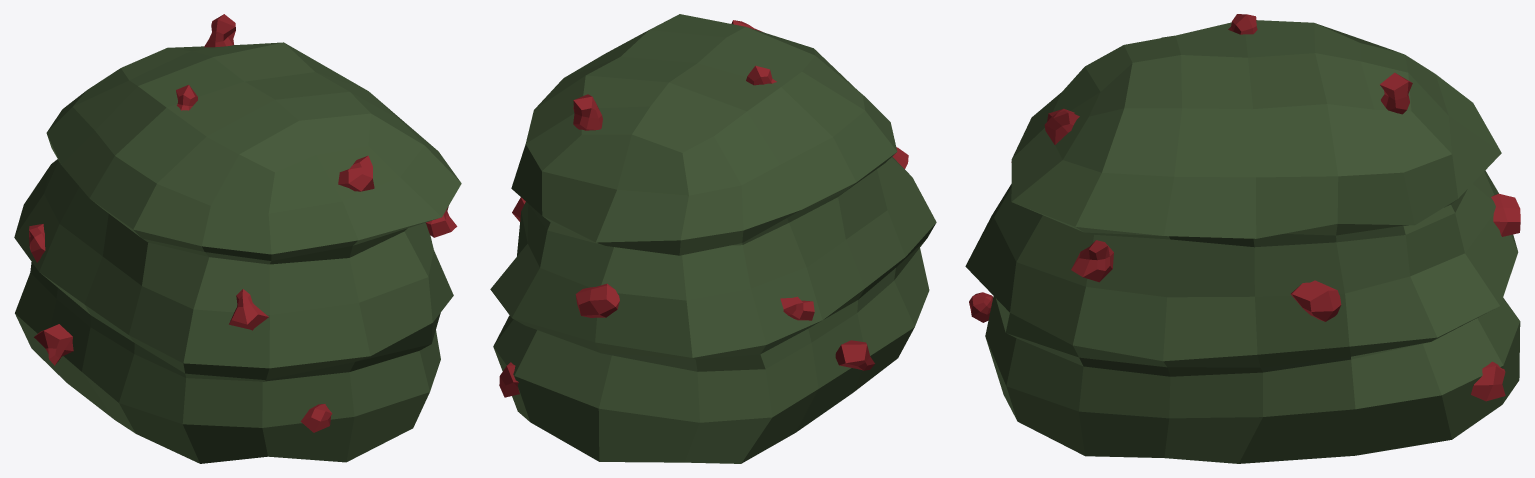
File: BushBerries_1.glb
The picture shows the model from 3 angles, left to right: view 1: azimuth 30°, elevation 25°; view 2: azimuth 150°, elevation 25°; view 3: azimuth 270°, elevation 25°; orthographic projection. The views are drawn at different scales.
Visible parts, largest first — view 1: BushBerries_1; view 2: BushBerries_1; view 3: BushBerries_1.
Part boxes in pixels (bbox=[...]): BushBerries_1: bbox=[14, 14, 461, 463]; BushBerries_1: bbox=[490, 14, 936, 463]; BushBerries_1: bbox=[965, 14, 1520, 463].
Bounding box in the file's own units: 1.39 × 1.28 × 1.72.
